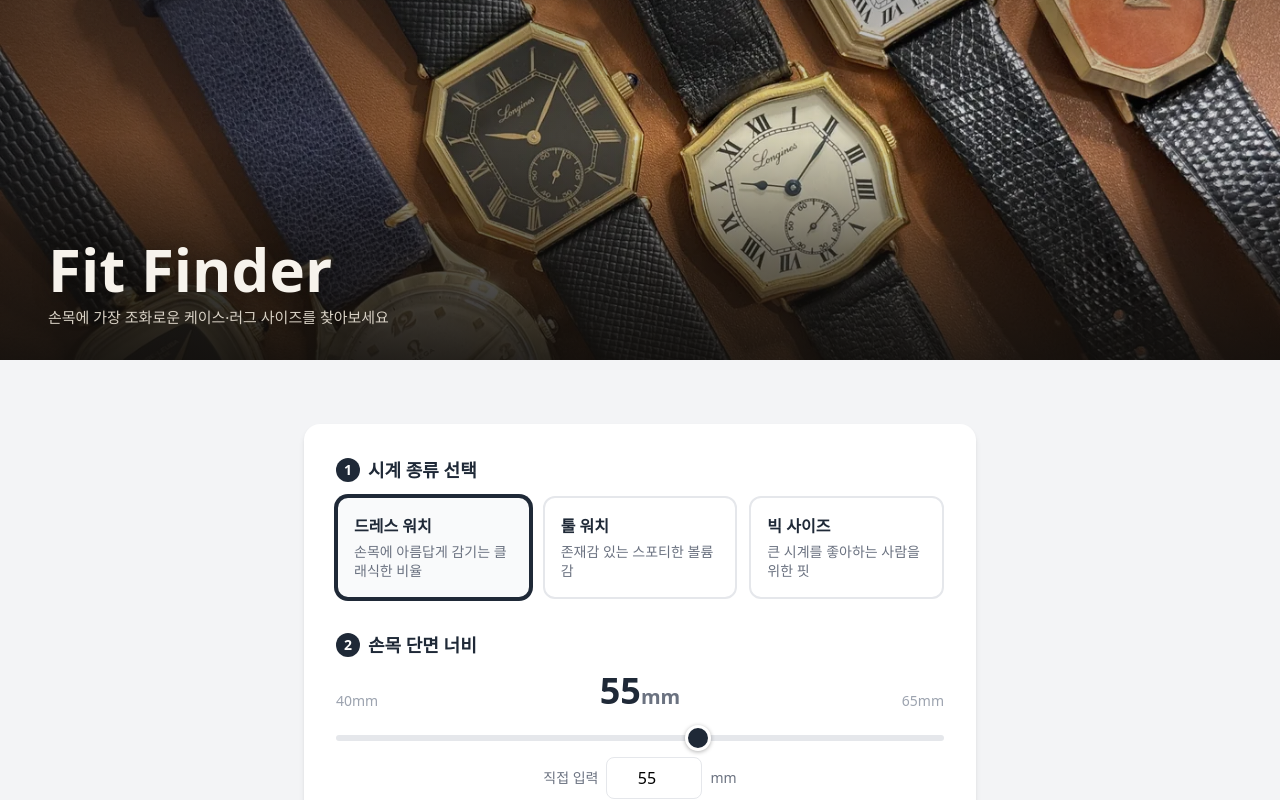
Scenario: FitFinder — 손목 너비 입력 › 비운 채로 칸을 벗어나면 직전 값으로 되돌아간다
This screenshot has width=1280, height=800.
Clear the number field at point(654, 778), box [606,756,702,798]
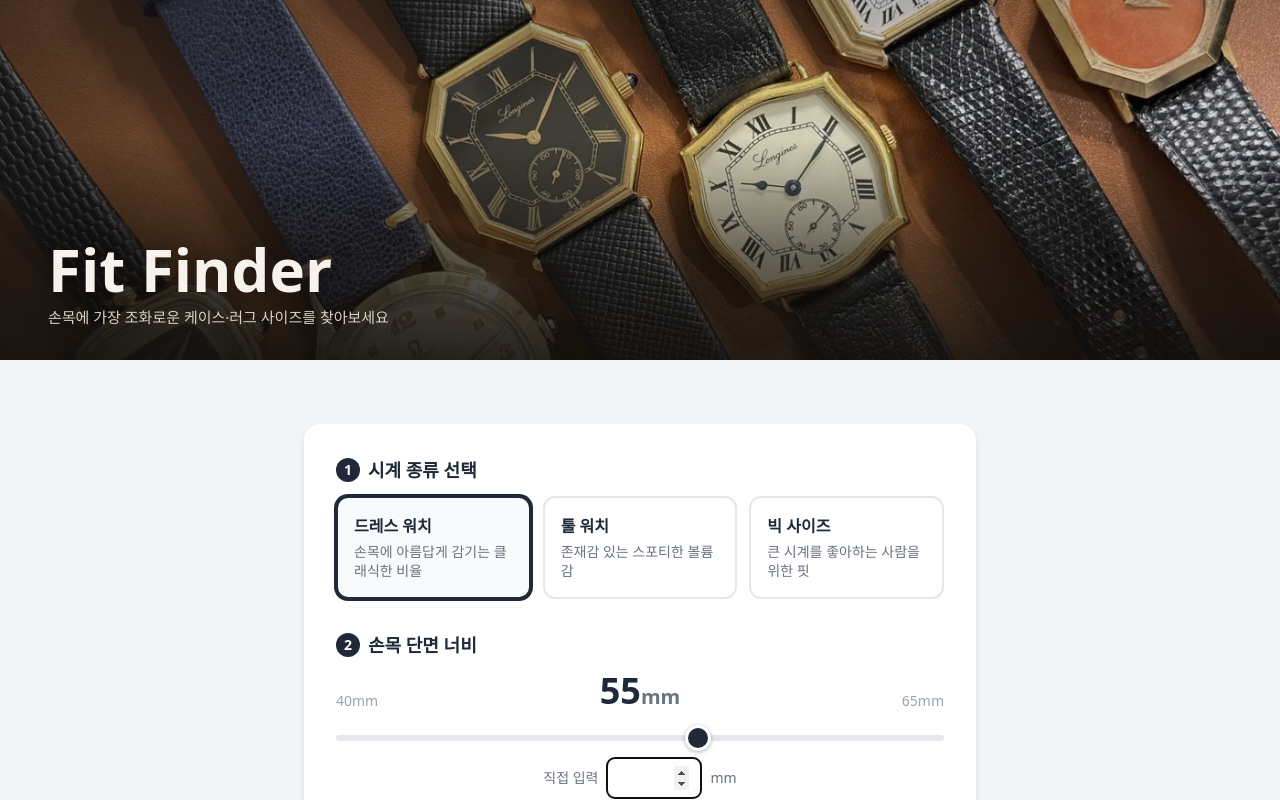
Press Tab
(page scrolled)
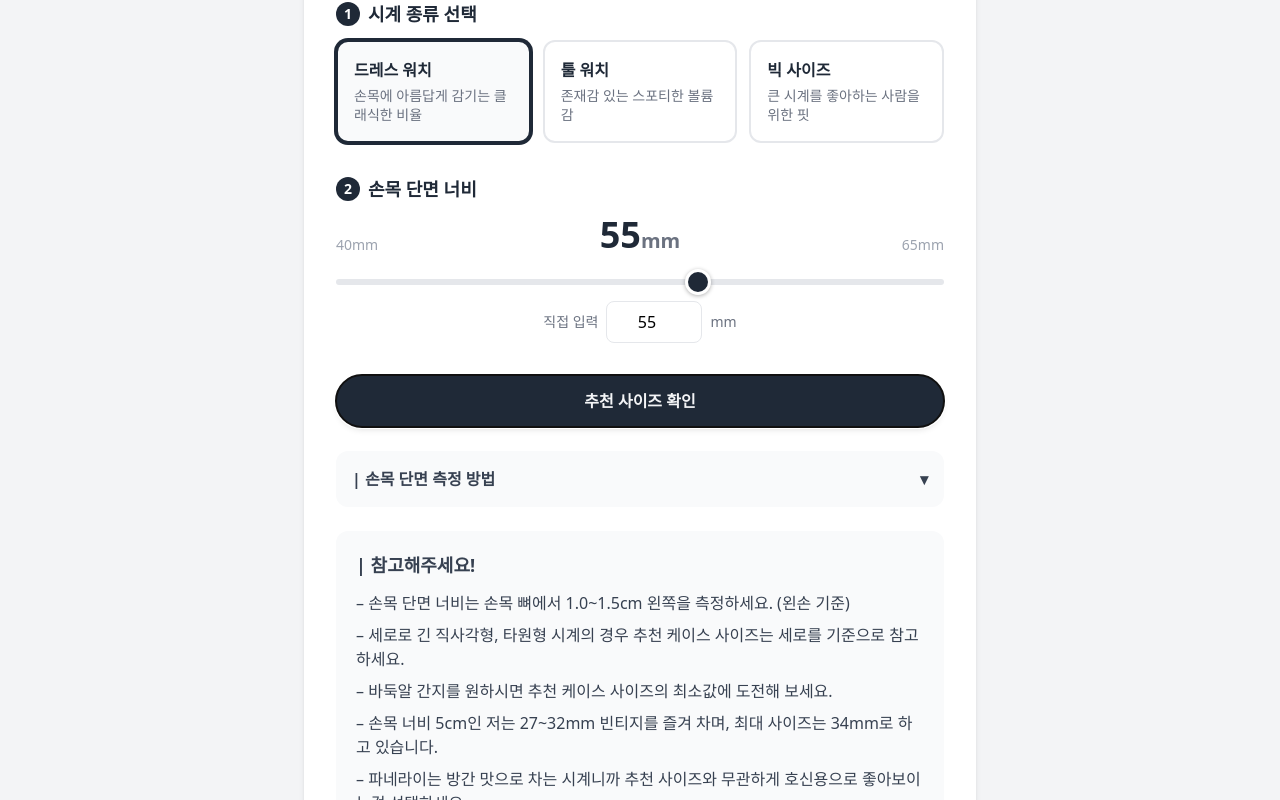
Expected: the number field holds "55", [606,300,702,342]
